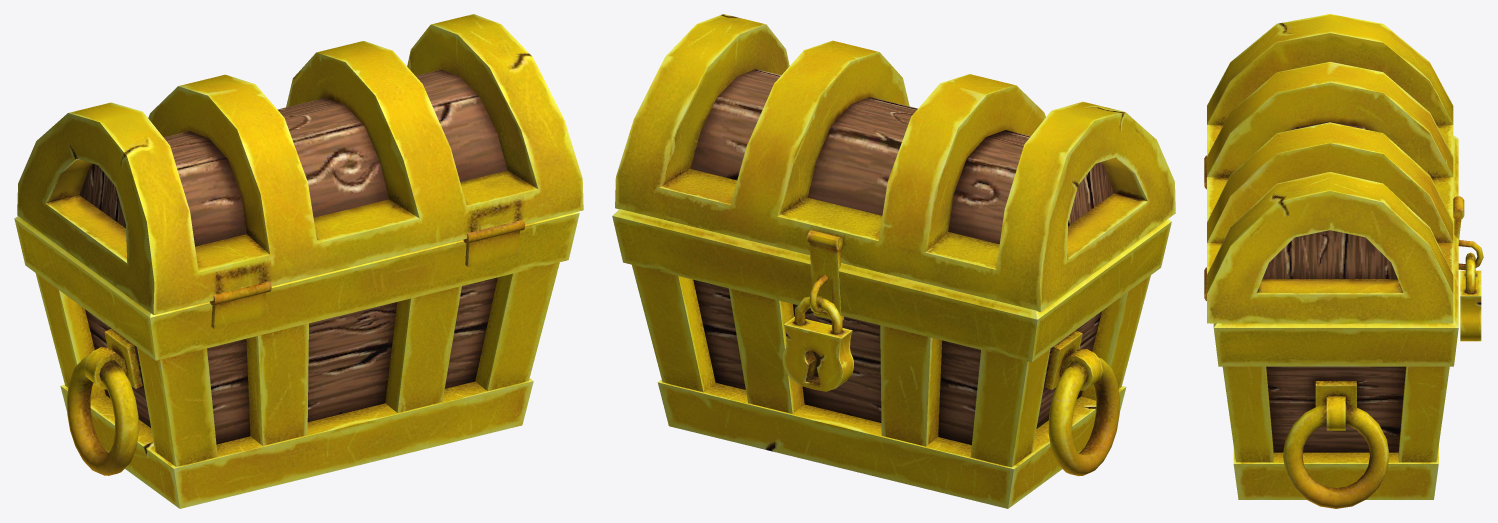
File: Treasure #58354.fbx
3 views of the same model, side by side, from view 1: azimuth 30°, elevation 25°; view 2: azimuth 150°, elevation 25°; view 3: azimuth 270°, elevation 25° (orthographic). The views are drawn at different scales.
Parts seen in each view (by area): view 1: Lid, Chest; view 2: Lid, Chest, Lock; view 3: Lid, Chest, Lock.
Boxes of the visible parts, x1,y1,x2,y2 form: Lid: (17, 14, 583, 314); Chest: (14, 212, 579, 508); Lid: (615, 14, 1175, 320); Chest: (612, 209, 1171, 508); Lock: (782, 296, 853, 391); Lid: (1207, 14, 1464, 323); Chest: (1204, 135, 1483, 508); Lock: (1460, 252, 1481, 341).
Bounding box in the file's own units: 2.33 × 1.85 × 1.45.
